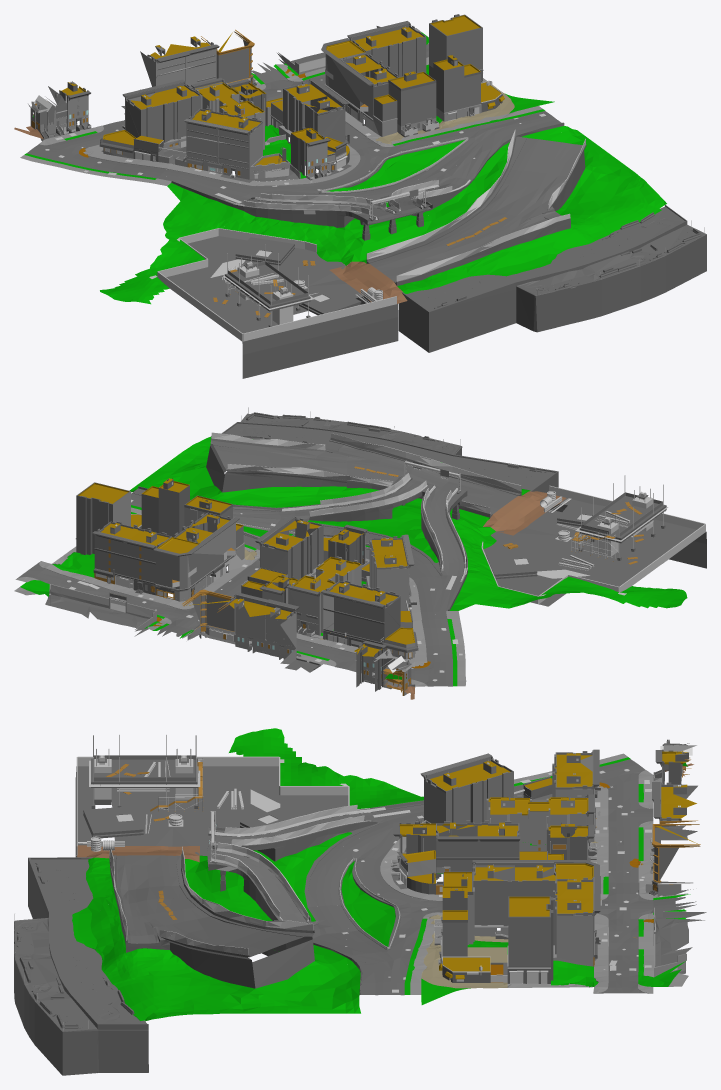
The model's file is bronx_w_8.FBX.
3 renders of one model, top to bottom at view 1: azimuth 30°, elevation 25°; view 2: azimuth 150°, elevation 25°; view 3: azimuth 270°, elevation 25°, orthographic. The views are drawn at different scales.
Parts seen in each view (by area): view 1: unnamed, null; view 2: unnamed, null; view 3: unnamed, null.
Part boxes in pixels (x1=…): unnamed: x1=14, y1=14, x2=582, y2=378; null: x1=382, y1=129, x2=706, y2=332; unnamed: x1=14, y1=454, x2=706, y2=699; null: x1=131, y1=407, x2=462, y2=534; unnamed: x1=28, y1=728, x2=706, y2=1013; null: x1=14, y1=876, x2=367, y2=1075.
Size of the model in its own units: 287 by 61.64 by 280.
